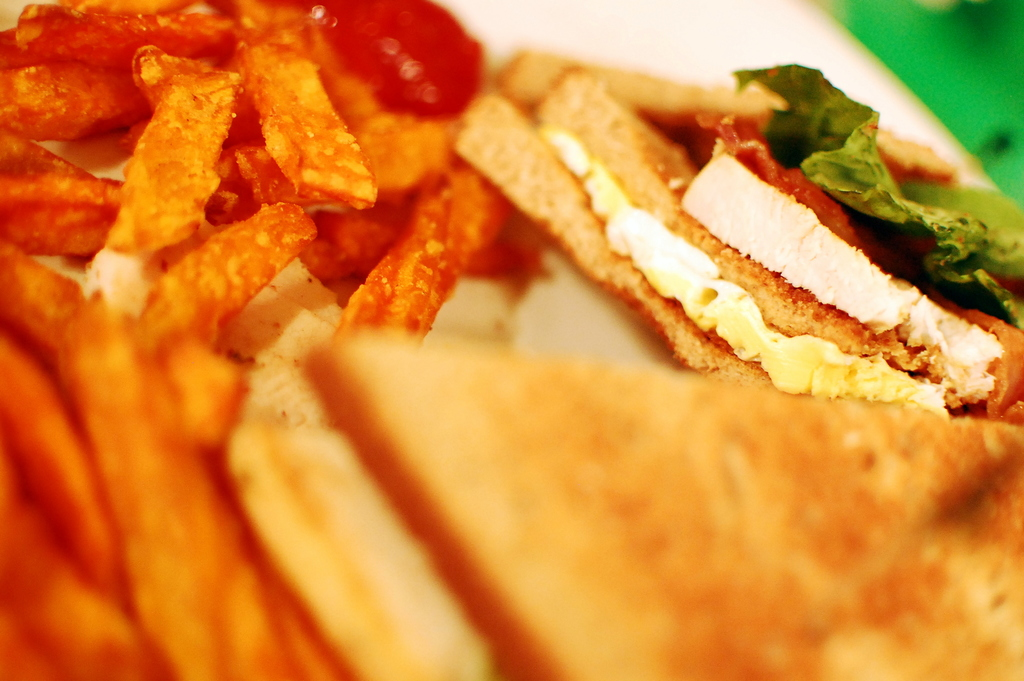French fries: (0, 0, 576, 680)
